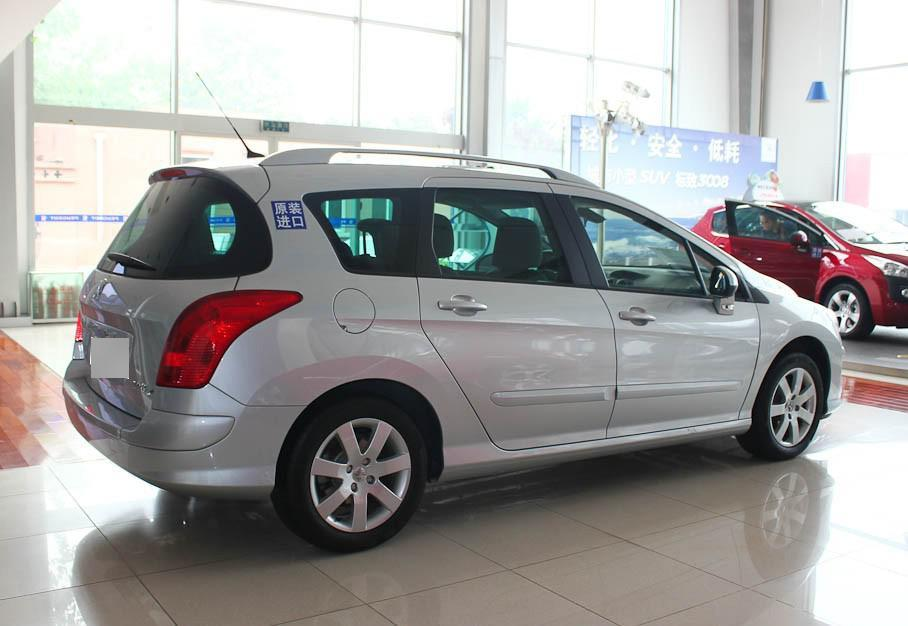Wagon: (61, 146, 846, 553)
